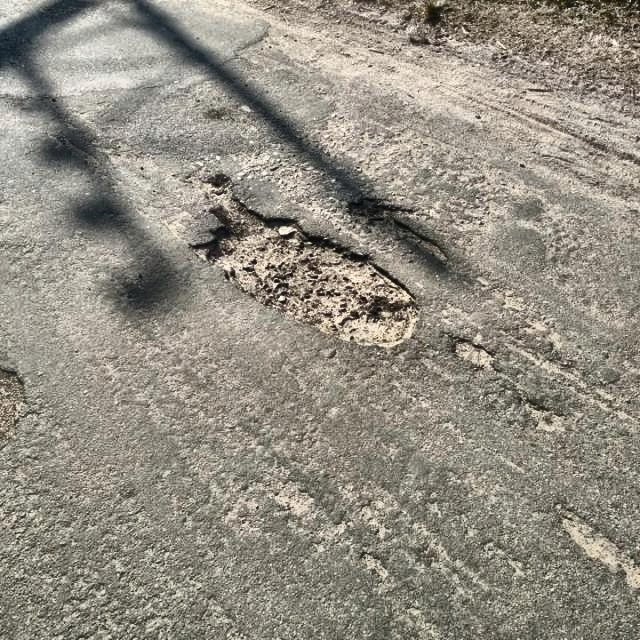Pothole: (188, 169, 418, 352), (550, 498, 640, 588), (344, 194, 452, 266), (1, 364, 30, 444), (444, 334, 502, 372)
